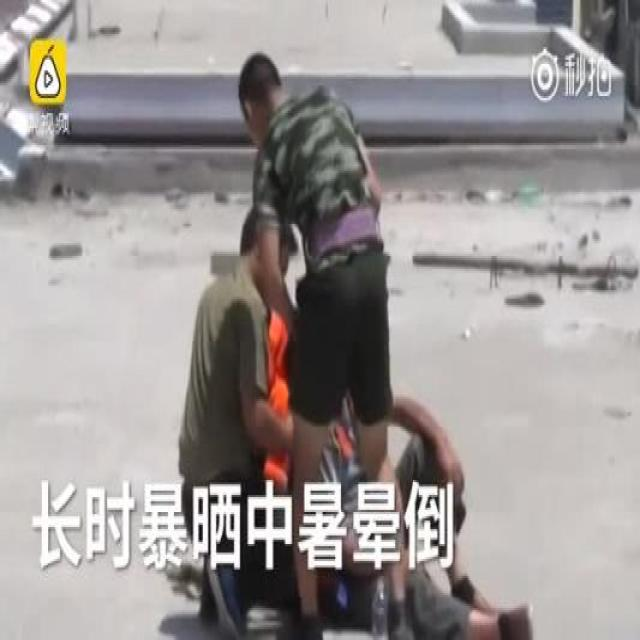fall: (270, 386, 510, 604)
